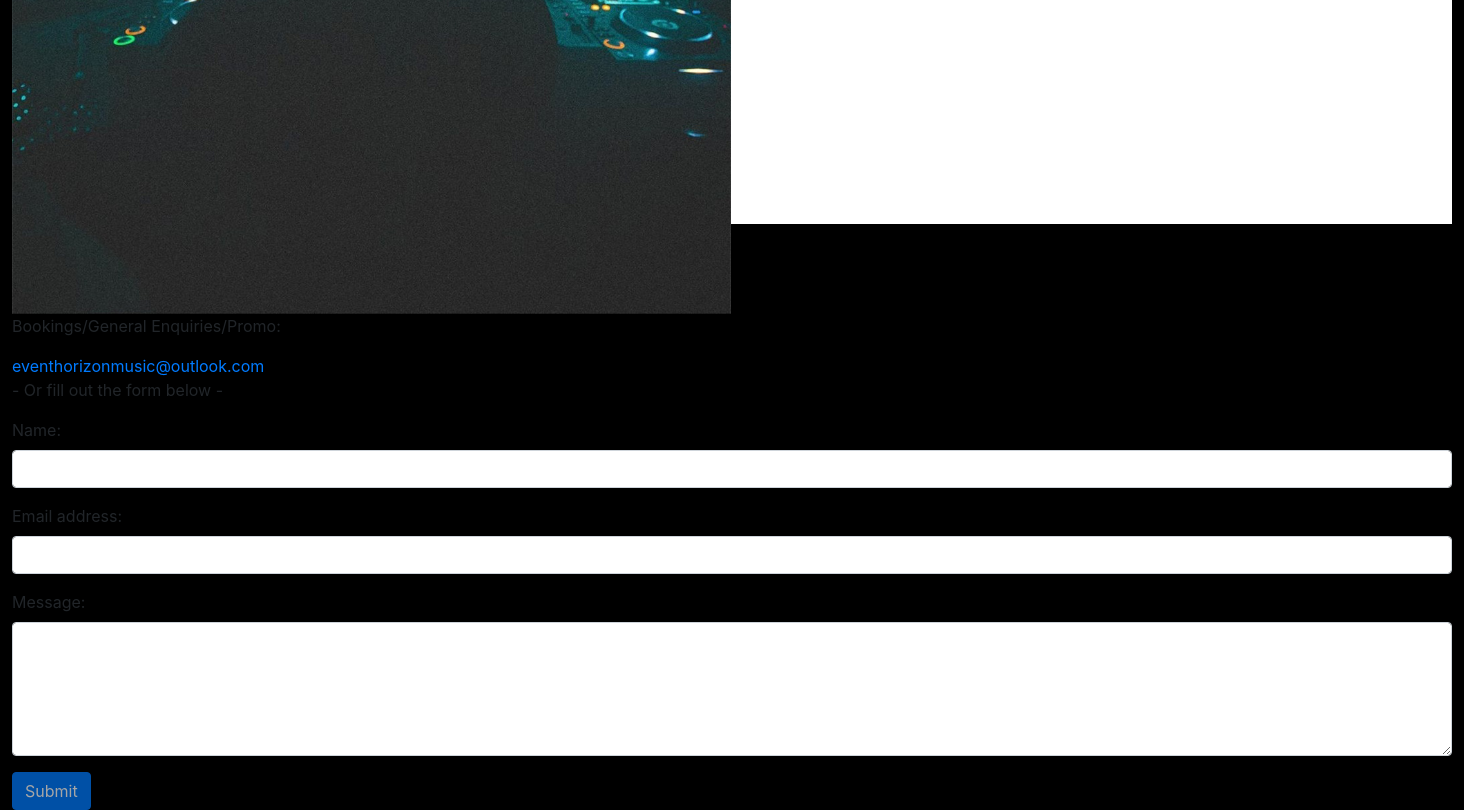
Test: Submit button should disappear when Name, Email Address and Message are all VALID and form is SUBMITTED
This screenshot has width=1464, height=810.
(page scrolled)
Type "Timan Noel" into the field with test id "name-input". click: [732, 469]
box: top-left (12, 450), bottom-right (1452, 488)
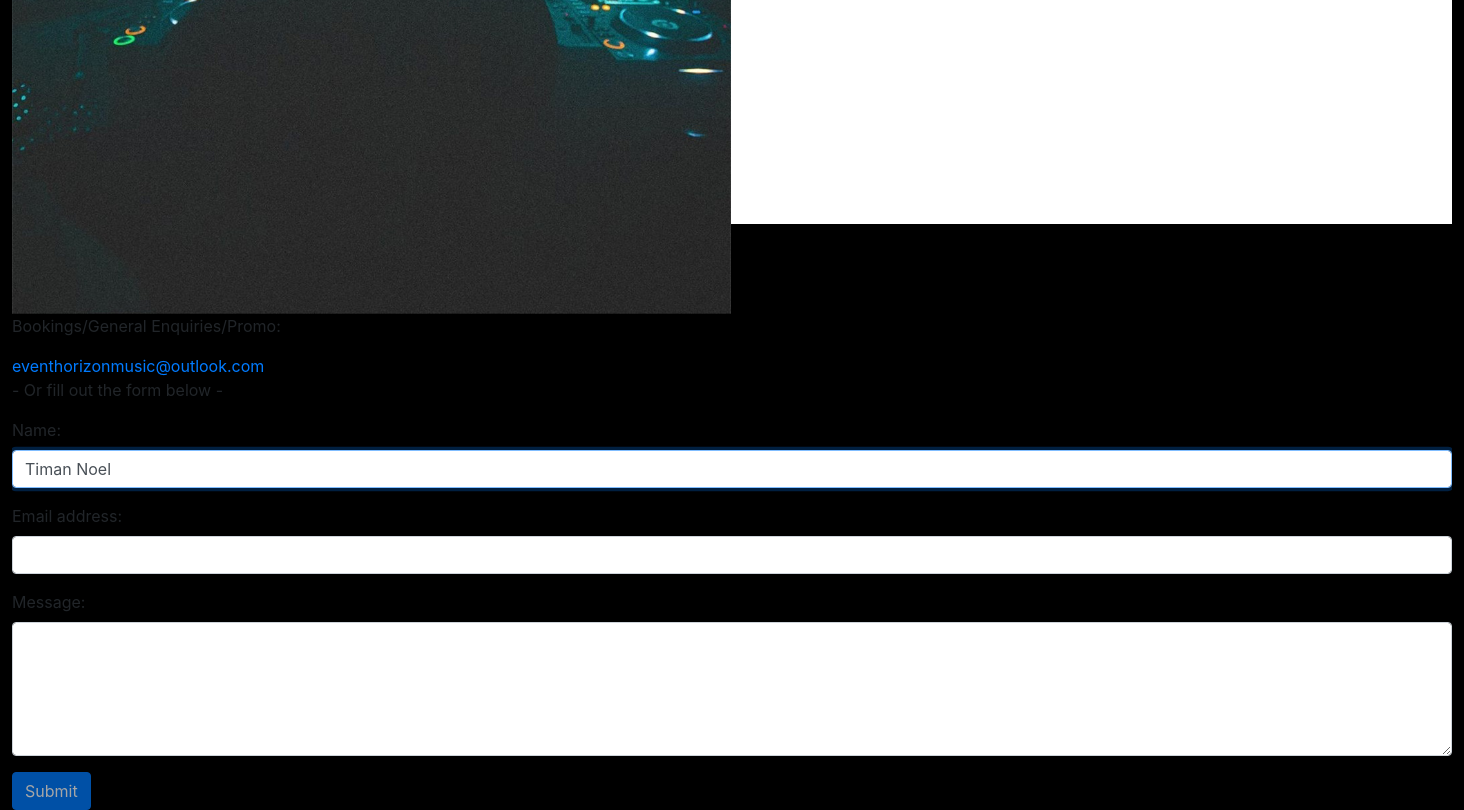
Type "tnoel7@msn.com" into the field with test id "email-address-input". click: [732, 555]
box: top-left (12, 536), bottom-right (1452, 574)
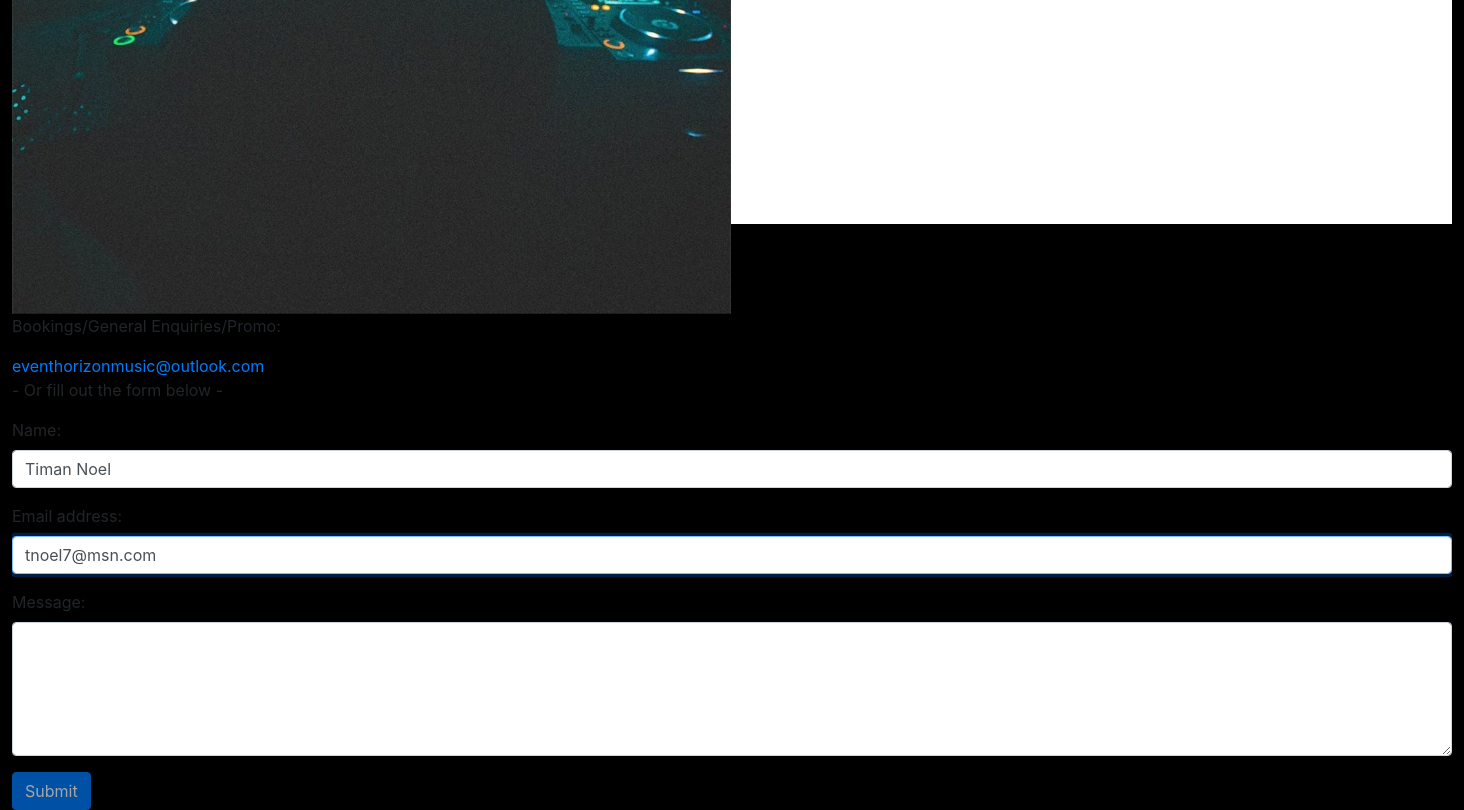
Type "Hello World" into the text box with test id "message-input". click: [732, 689]
box: top-left (12, 622), bottom-right (1452, 756)
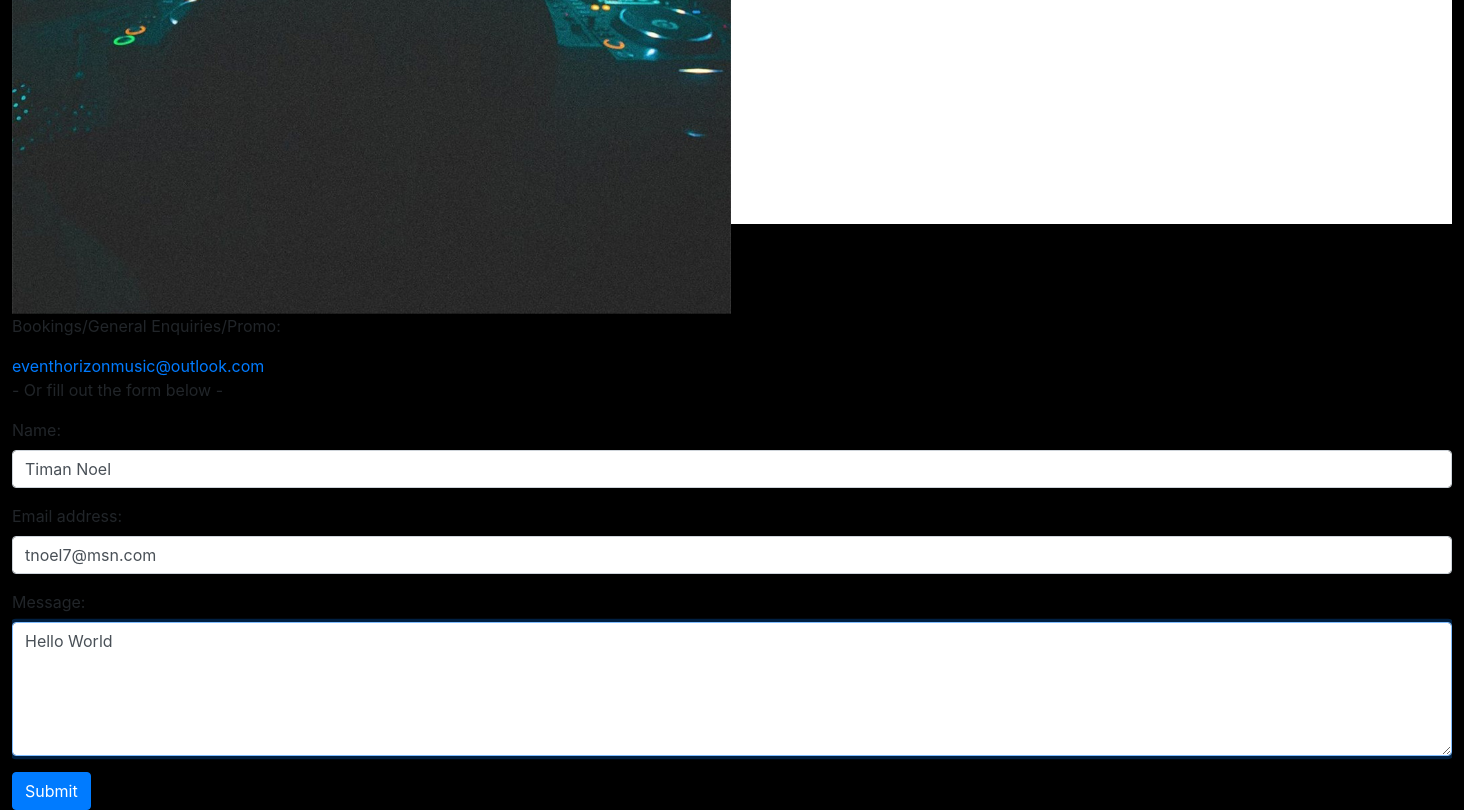
Now the button "Submit" is enabled
Click the button "Submit". click: [51, 791]
box: top-left (12, 772), bottom-right (91, 809)
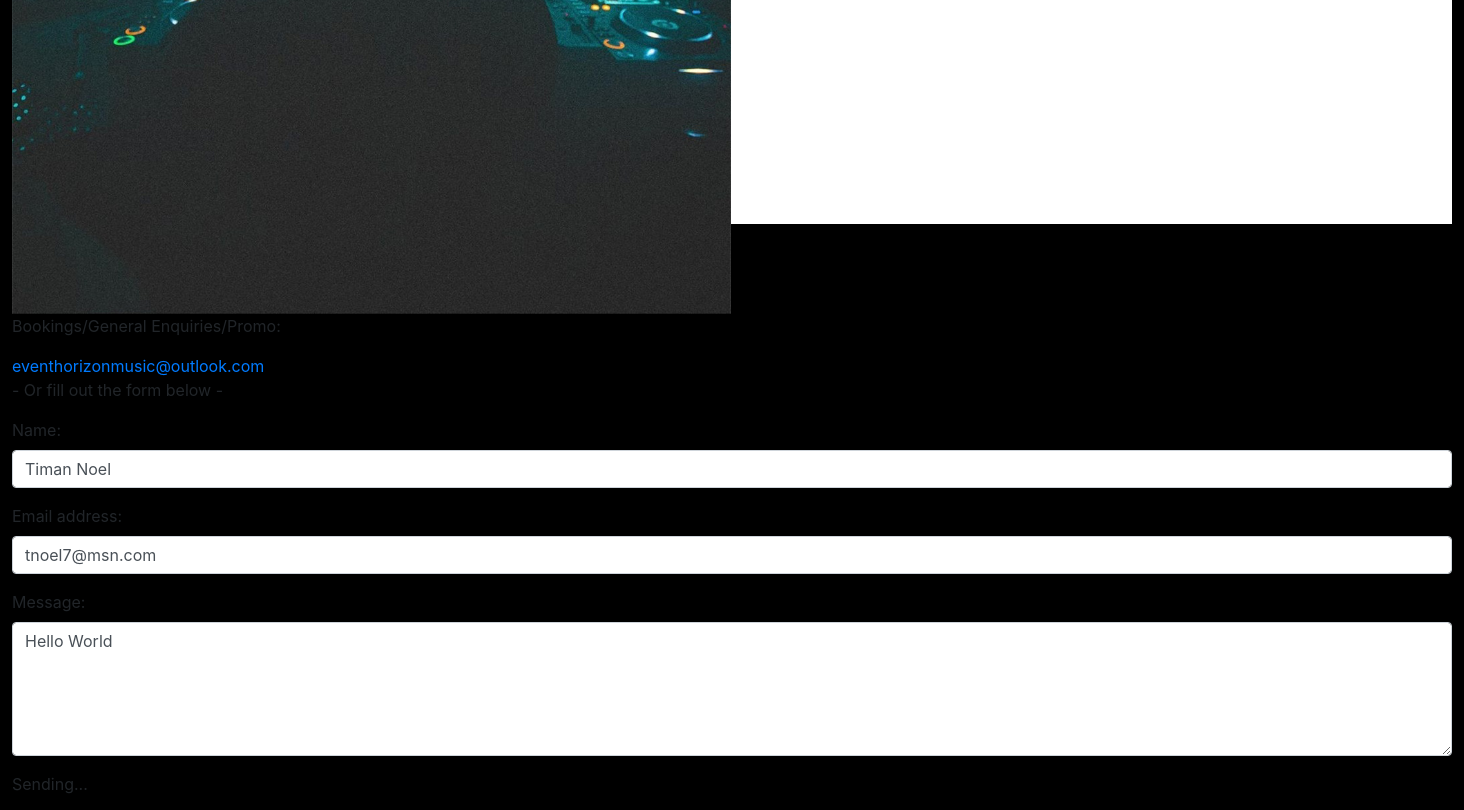
Now the button "Submit" is gone
